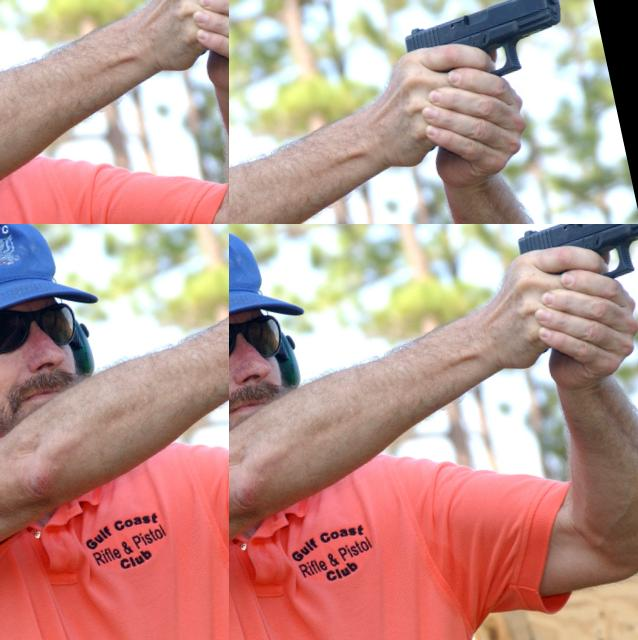handgun: (0, 224, 229, 515), (508, 224, 638, 322), (0, 0, 72, 80), (229, 53, 239, 78)
